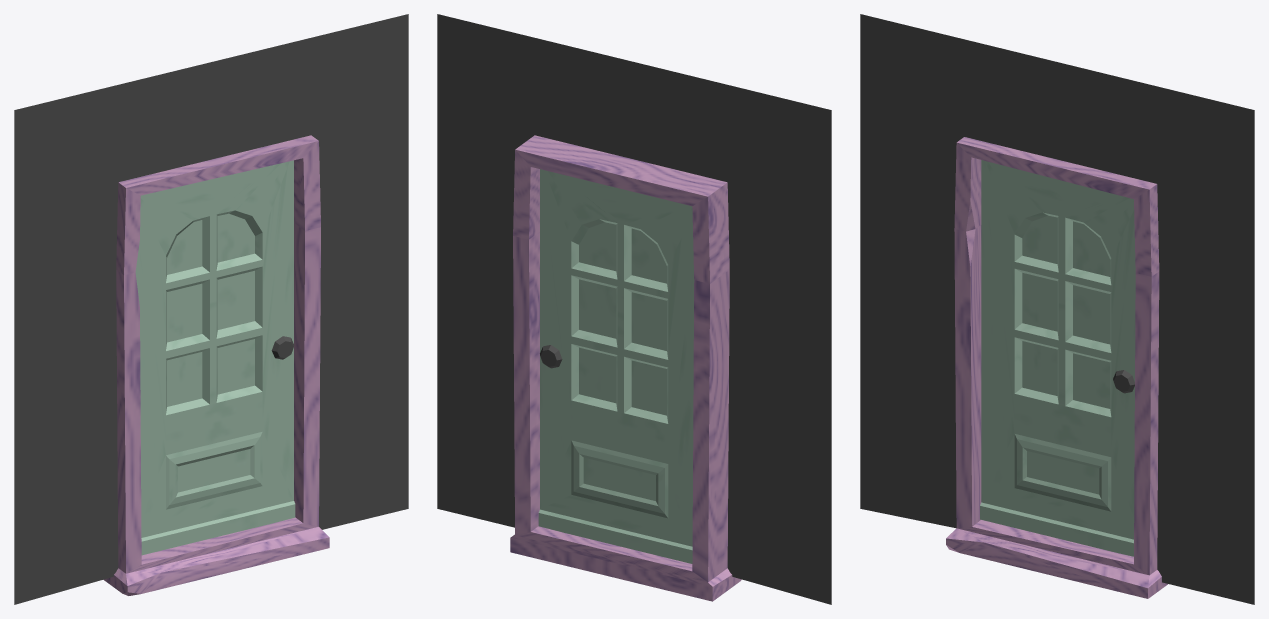
The model's file is House01_Door_01.fbx.
3 renders of one model, left to right at view 1: azimuth 30°, elevation 25°; view 2: azimuth 150°, elevation 25°; view 3: azimuth 330°, elevation 25°, orthographic.
Visible parts, largest first — view 1: SM_Bld_House_ExteriorWall_GroundFloor_Door_02; view 2: SM_Bld_House_ExteriorWall_GroundFloor_Door_02; view 3: SM_Bld_House_ExteriorWall_GroundFloor_Door_02.
Part boxes in pixels (x1=…): SM_Bld_House_ExteriorWall_GroundFloor_Door_02: x1=14, y1=14, x2=408, y2=604; SM_Bld_House_ExteriorWall_GroundFloor_Door_02: x1=437, y1=14, x2=831, y2=604; SM_Bld_House_ExteriorWall_GroundFloor_Door_02: x1=860, y1=14, x2=1254, y2=604.
Size of the model in its own units: 250 by 304 by 36.73.
